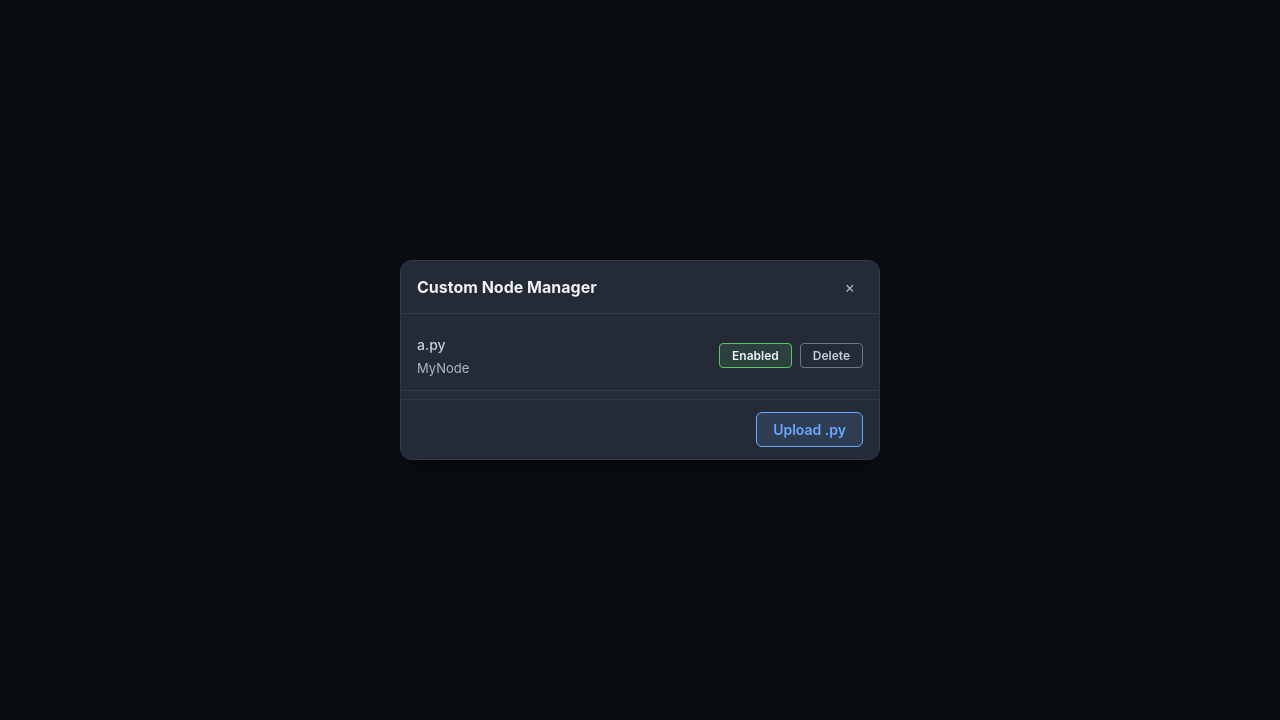
Test: CustomNodeManager › surfaces an error when delete fails
Step 1. Click the button "Delete" → (831, 356), box [800,344,863,368]
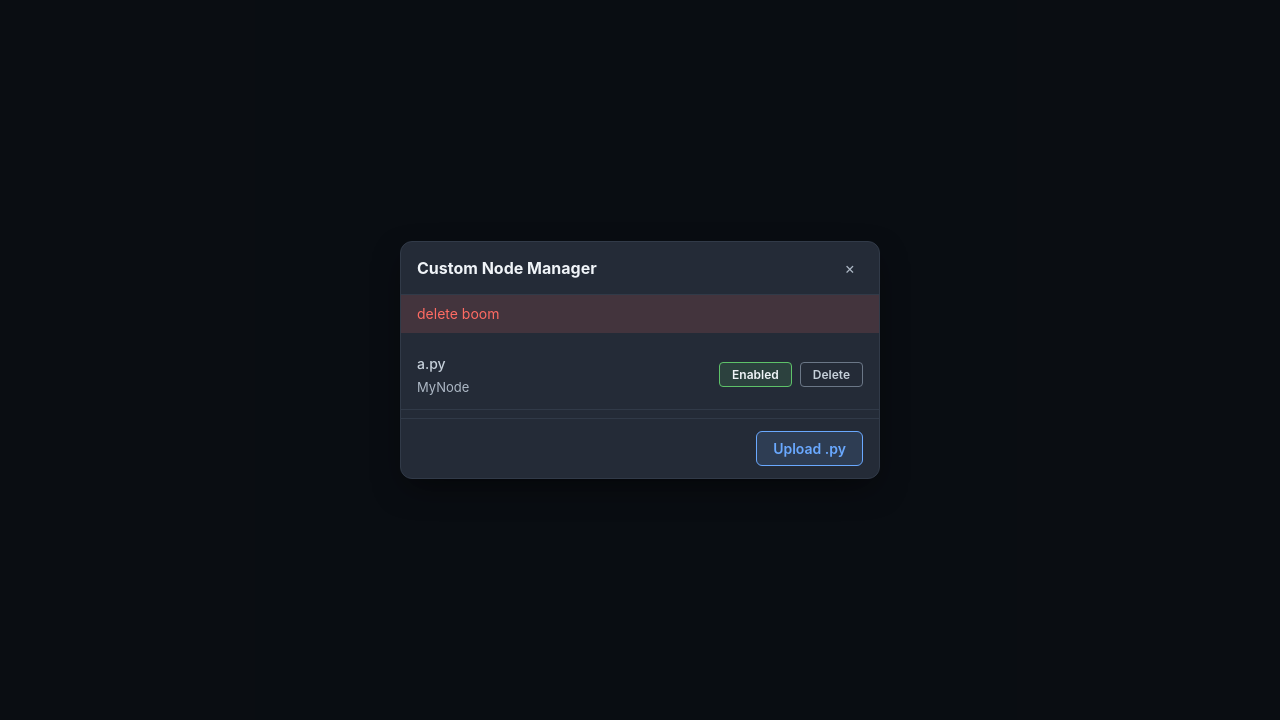
Expected: the text "delete boom" is shown, [401,295,879,333]
